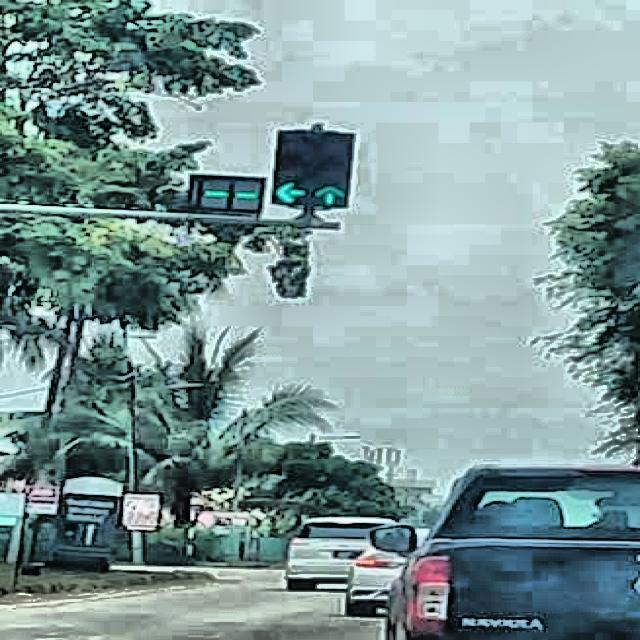green: (310, 131, 352, 208), (270, 129, 311, 205)
